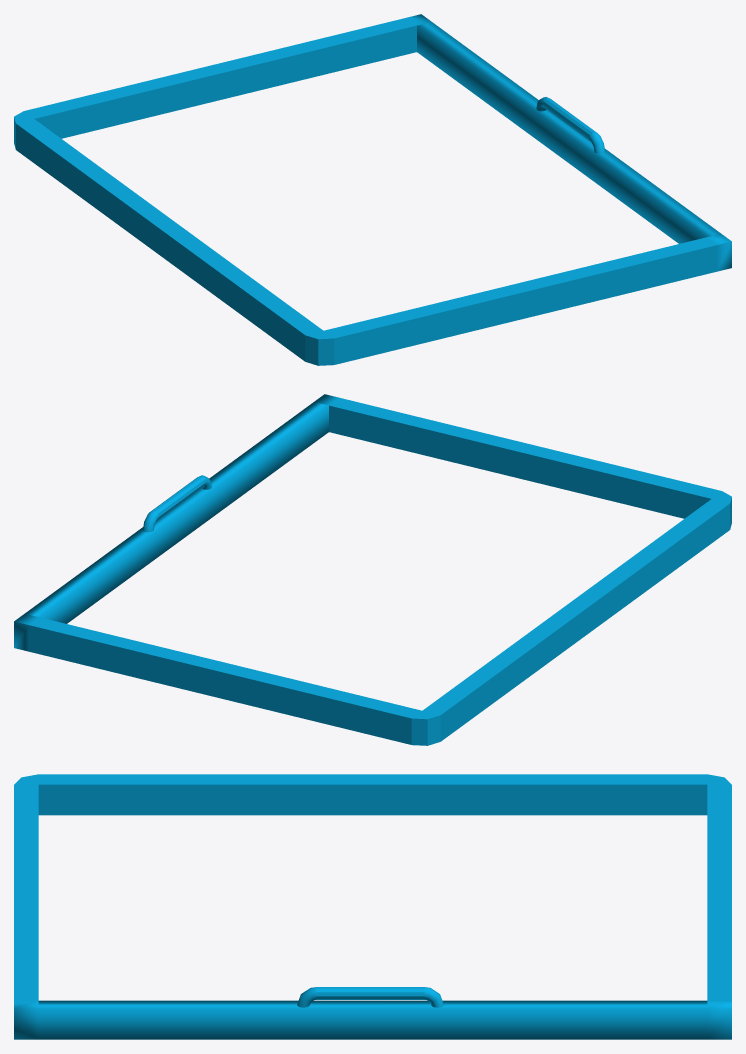
Rendered from Shop_Fridge_02_Door_R_Lod0.fbx.
The picture shows the model from 3 angles, top to bottom: view 1: azimuth 30°, elevation 25°; view 2: azimuth 150°, elevation 25°; view 3: azimuth 270°, elevation 25°; orthographic projection. The views are drawn at different scales.
Parts seen in each view (by area): view 1: Shop_Fridge_02_Door_R_Lod0; view 2: Shop_Fridge_02_Door_R_Lod0; view 3: Shop_Fridge_02_Door_R_Lod0.
Boxes of the visible parts, <box> form: Shop_Fridge_02_Door_R_Lod0: <box>14,14,731,365</box>; Shop_Fridge_02_Door_R_Lod0: <box>14,394,731,745</box>; Shop_Fridge_02_Door_R_Lod0: <box>14,774,731,1039</box>.
Bounding box in the file's own units: 68.84 × 6.55 × 89.
